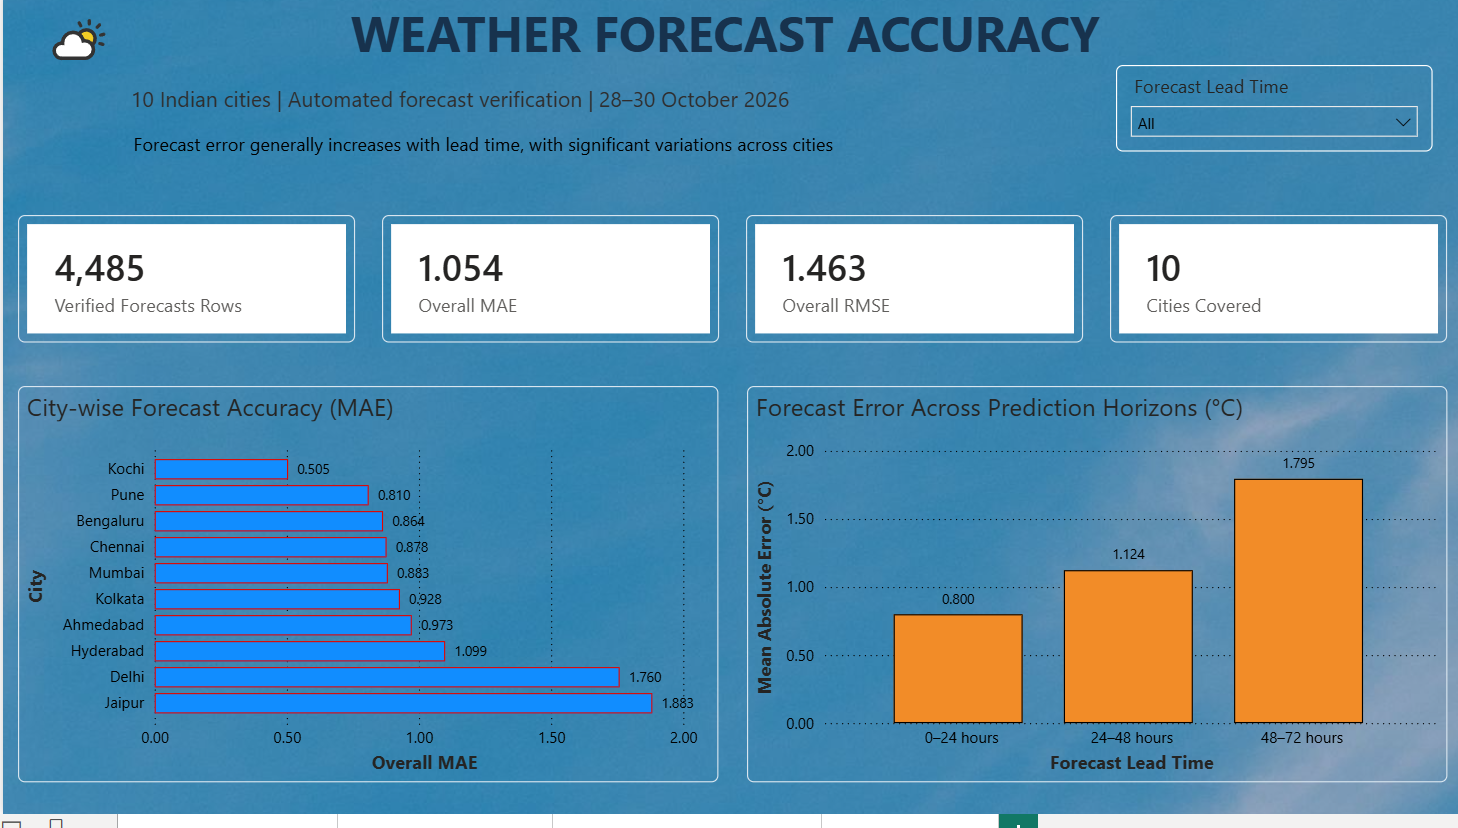

The dashboard page shown, as its layout file describes it:
{"tool":"powerbi","page":{"name":"WEATHER FORECAST ACCURACY ","canvas":[1280,720],"ordinal":0},"visuals":[{"type":"textbox","box":[0,0,1280,148.2],"z":0},{"type":"image","box":[13.5,12.4,106.8,61.1],"z":1000},{"type":"slicer","title":"Forecast Lead Time","fields":{"Values":["Forecast Verification Detail.lead_time_bucket"]},"box":[977,62,278,76],"z":2000},{"type":"clusteredBarChart","title":"City-wise Forecast Accuracy (MAE)","fields":{"Category":["public dim_city.city_name"],"Y":["Forecast Verification Detail.Overall MAE"]},"box":[13,344,615,348],"z":3000},{"type":"cardVisual","fields":{"Data":["Forecast Verification Detail.Verified Forecasts Display"]},"box":[13,194,296,112],"z":4000},{"type":"cardVisual","fields":{"Data":["Forecast Verification Detail.Cities Covered"]},"box":[972,194,296,112],"z":5000},{"type":"cardVisual","fields":{"Data":["Forecast Verification Detail.Overall RMSE"]},"box":[652,194,296,112],"z":6000},{"type":"cardVisual","fields":{"Data":["Forecast Verification Detail.Overall MAE"]},"box":[333,194,296,112],"z":7000},{"type":"clusteredColumnChart","title":"Forecast Error Across Prediction Horizons (°C)","fields":{"Category":["Forecast Verification Detail.lead_time_bucket"],"Y":["Forecast Verification Detail.Overall MAE"]},"box":[653,344,615,348],"z":8000}]}

Visuals, with their boxes on the page's 1280x720 design canvas (x1, y1, x2, y2). These are canvas units, not pixel positions in the 1458x828 screenshot, which may show the page scaled, cropped or inside an application window:
textbox: 0 0 1280 148
image: 14 12 120 74
"Forecast Lead Time" slicer: 977 62 1255 138
"City-wise Forecast Accuracy (MAE)" clusteredBarChart: 13 344 628 692
cardVisual - Forecast Verification Detail.Verified Forecasts Display: 13 194 309 306
cardVisual - Forecast Verification Detail.Cities Covered: 972 194 1268 306
cardVisual - Forecast Verification Detail.Overall RMSE: 652 194 948 306
cardVisual - Forecast Verification Detail.Overall MAE: 333 194 629 306
"Forecast Error Across Prediction Horizons (°C)" clusteredColumnChart: 653 344 1268 692
